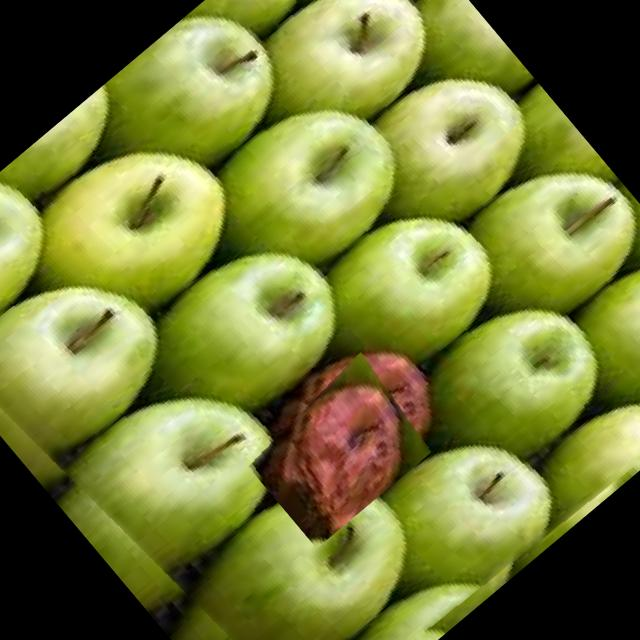Organic: (0, 0, 640, 640), (237, 352, 438, 548)
